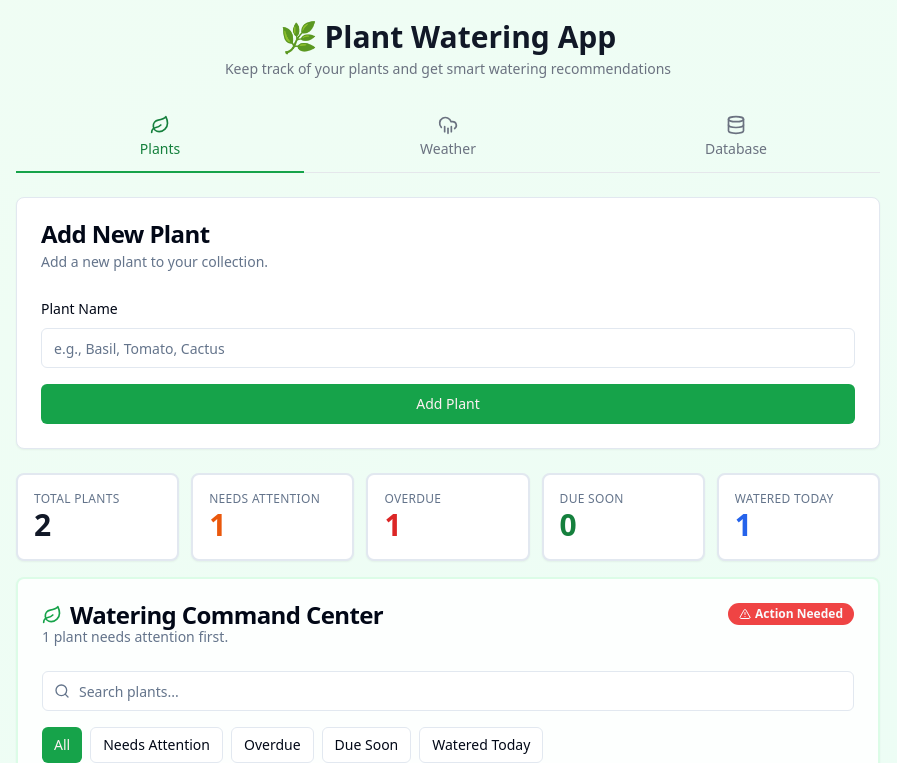
Scenario: App › renders the upgraded watering command center and switches to the database tab
Expected: the heading "🌿 Plant Watering App" is shown, x1=280 y1=16 x2=616 y2=57
Expected: the text "Add a new plant to your collection." is shown, x1=41 y1=252 x2=268 y2=271
What coordinates should you click on to do the following:
click the button "Database"
I would click on:
 (736, 138)
Its box is x1=592 y1=103 x2=880 y2=173.
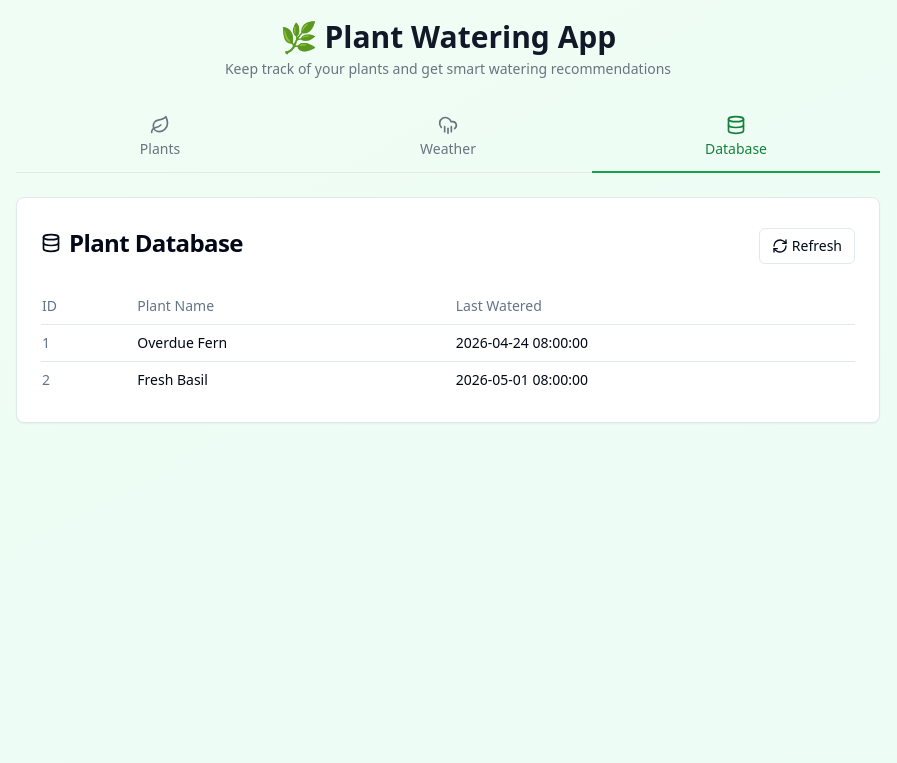
Now the heading "Plant Database" is shown, box x1=41 y1=231 x2=243 y2=255
